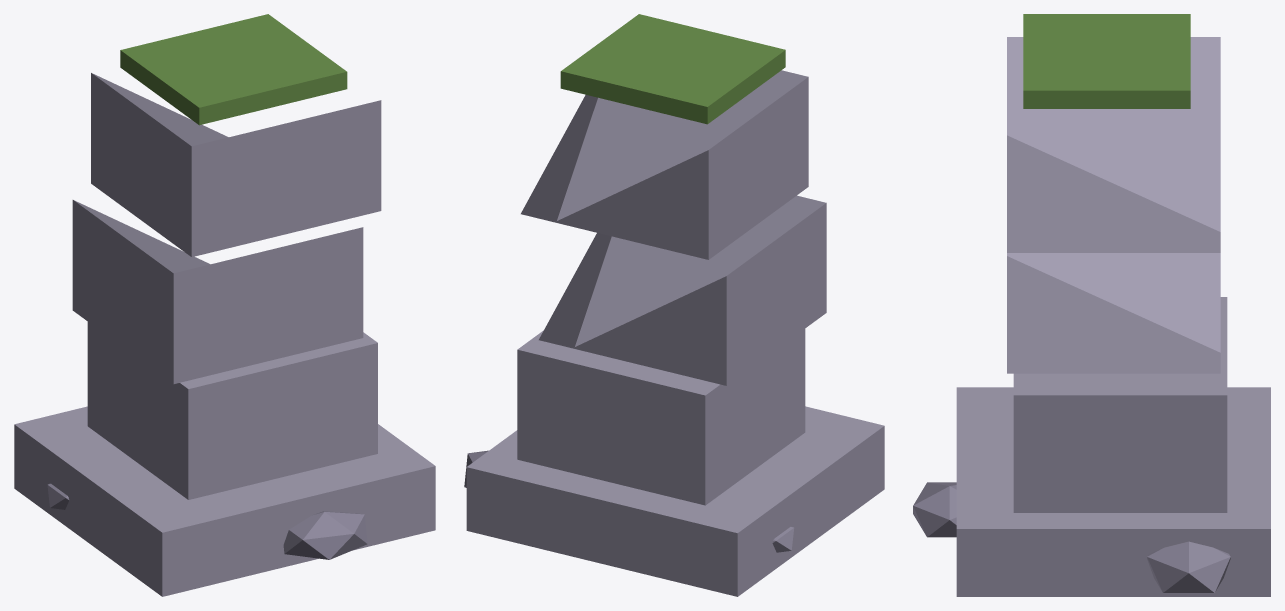
Rendered from pillar_broken.glb.
3 renders of one model, left to right at view 1: azimuth 30°, elevation 25°; view 2: azimuth 150°, elevation 25°; view 3: azimuth 270°, elevation 25°, orthographic. The views are drawn at different scales.
Parts seen in each view (by area): view 1: Pillar; view 2: Pillar; view 3: Pillar.
Part boxes in pixels (x1,y1,x2,y2): Pillar: (14,14,435,596); Pillar: (464,14,884,596); Pillar: (913,14,1270,596).
Size of the model in its own units: 1.15 by 1.54 by 1.05.
